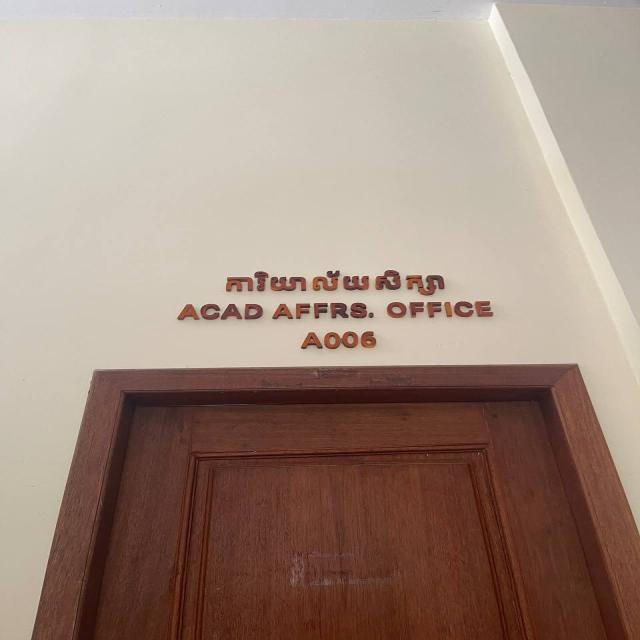211: (319, 327, 381, 352)
Yolov11_80vkh: (219, 267, 457, 300)
